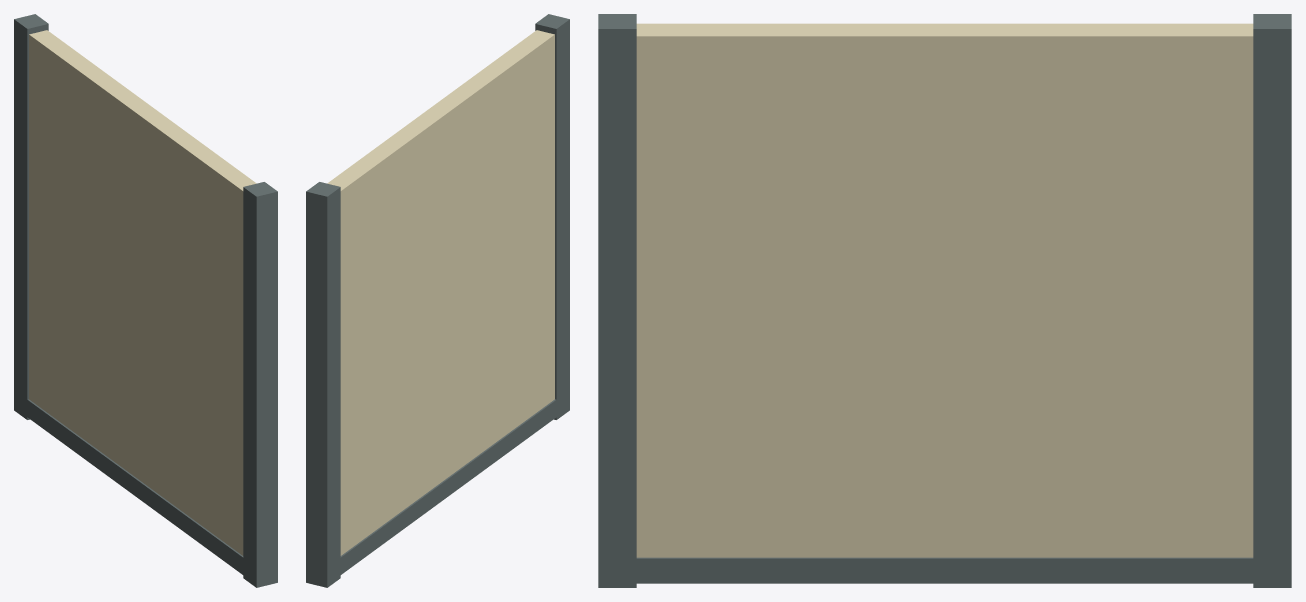
Rendered from LP_StaffToilet_Divider01.fbx.
3 renders of one model, left to right at view 1: azimuth 30°, elevation 25°; view 2: azimuth 150°, elevation 25°; view 3: azimuth 270°, elevation 25°, orthographic. The views are drawn at different scales.
Visible parts, largest first — view 1: WarmIvory, M_Museum_BrushedMetal; view 2: WarmIvory, M_Museum_BrushedMetal; view 3: WarmIvory, M_Museum_BrushedMetal.
Boxes of the visible parts, <box> form: WarmIvory: <box>29,30,256,555</box>; M_Museum_BrushedMetal: <box>14,14,277,587</box>; WarmIvory: <box>327,30,554,555</box>; M_Museum_BrushedMetal: <box>306,14,569,587</box>; WarmIvory: <box>636,23,1253,557</box>; M_Museum_BrushedMetal: <box>598,14,1291,587</box>.
Size of the model in its own units: 12 by 210 by 236.
